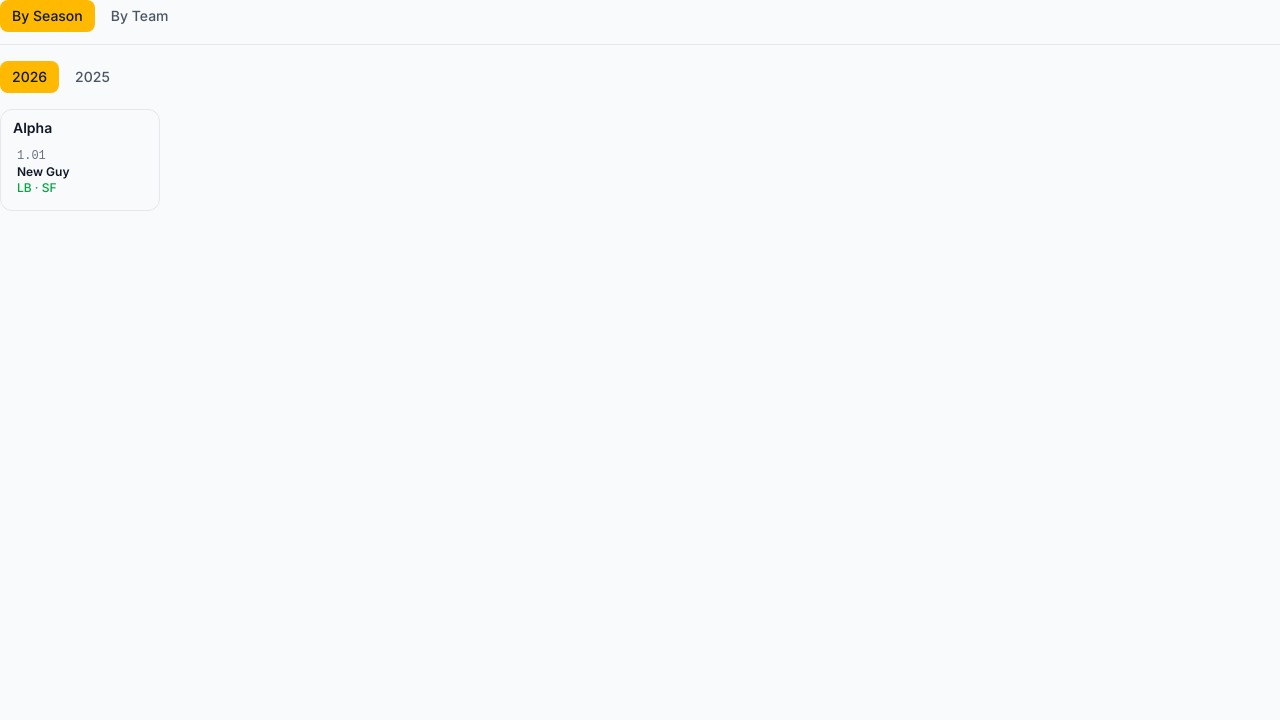
DraftBoardView › opens the slot history modal with entries from both seasons on cell click
Click the text "New Guy" at (43, 172), box [17,164,70,179]
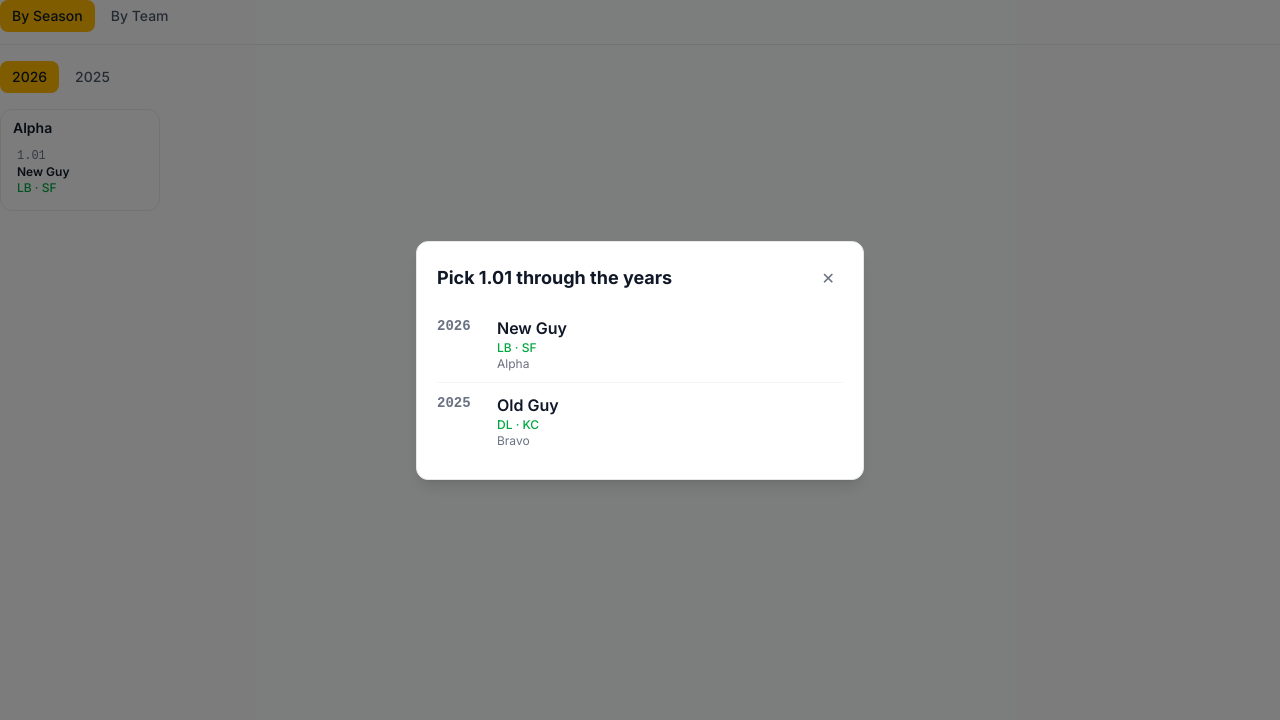
Expected: the heading "Pick 1.01 through the years" is shown, [437,264,672,292]
Expected: the dialog shows "New Guy", [497,318,567,338]
Expected: the dialog shows "Old Guy", [497,394,559,414]
